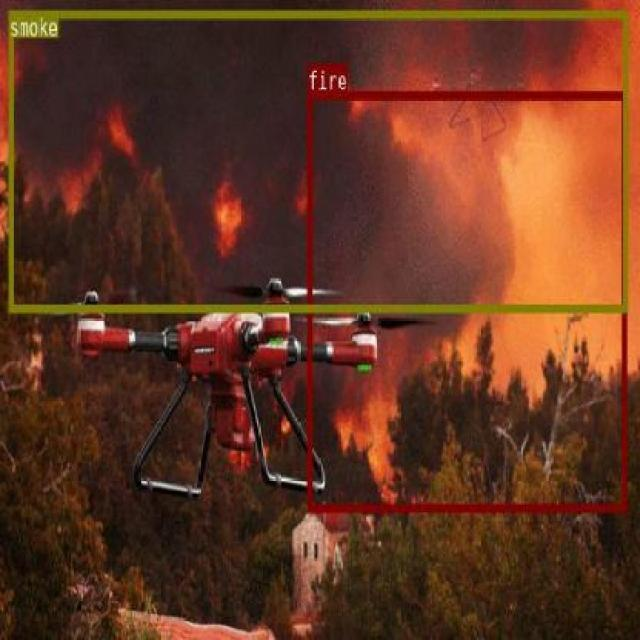Fire: (308, 89, 626, 511)
Smoke: (8, 10, 627, 312)
